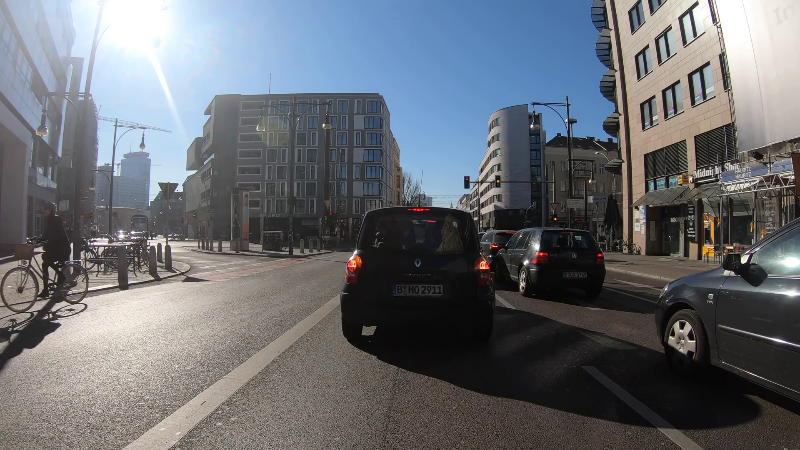Plate: (389, 282, 446, 297), (561, 270, 591, 280)
